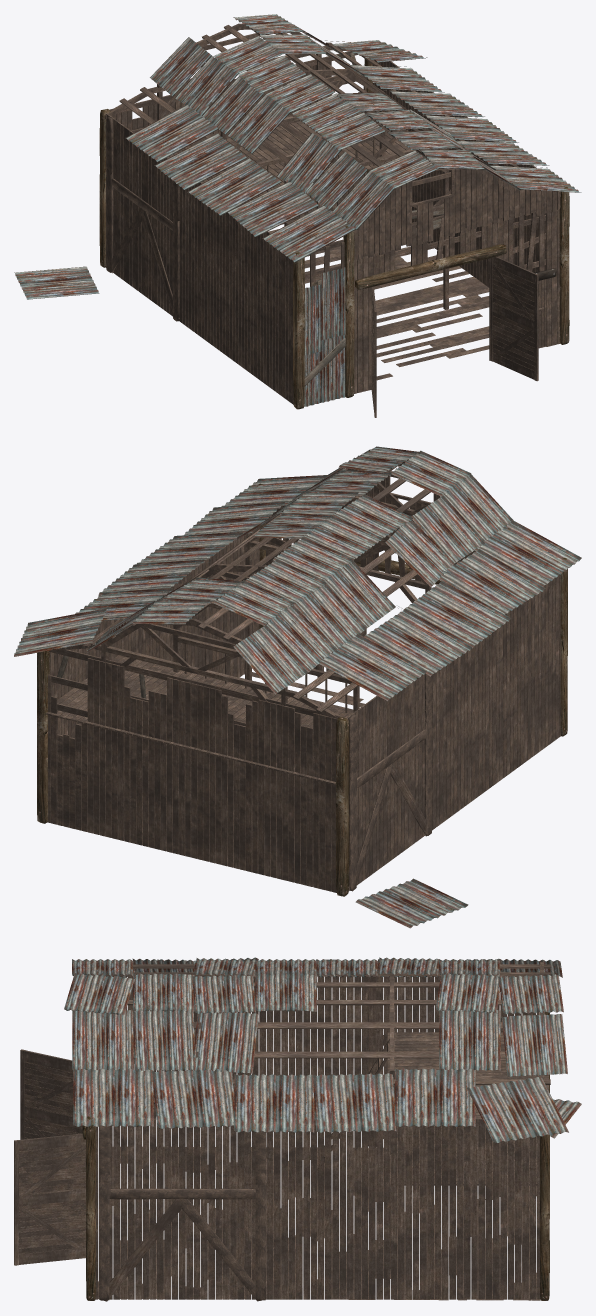
File: abandoned_barn.glb
The picture shows the model from 3 angles, top to bottom: view 1: azimuth 30°, elevation 25°; view 2: azimuth 150°, elevation 25°; view 3: azimuth 270°, elevation 25°; orthographic projection. The views are drawn at different scales.
Parts seen in each view (by area): view 1: BarnRoof_9, BarnWalls_12, BarnSupportBeams_10, BarnFloor_7, BarnPillars_8, BarnDoorR_6, BarnWallPatchedHole_11, BarnWallSideThing_13, BarnBalcMain_1, BarnBigDoorThing_3, BarnWallsSupport_14, BarnWallSupport2_15 (+2 smaller); view 2: BarnWalls_12, BarnRoof_9, BarnSupportBeams_10, BarnPillars_8, BarnWallSideThing_13, BarnBalcMain_1, BarnWallsSupport_14, BarnBalcRailing_2; view 3: BarnWalls_12, BarnRoof_9, BarnDoorR_6, BarnWallSideThing_13, BarnSupportBeams_10, BarnFloor_7, BarnDoorL_5, BarnBalcMain_1, BarnPillars_8.
Boxes of the visible parts, <box> form: BarnRoof_9: <box>14,14,581,299</box>; BarnWalls_12: <box>106,60,560,404</box>; BarnSupportBeams_10: <box>105,23,518,309</box>; BarnFloor_7: <box>269,219,545,380</box>; BarnPillars_8: <box>99,45,569,409</box>; BarnDoorR_6: <box>490,256,538,381</box>; BarnWallPatchedHole_11: <box>304,267,345,406</box>; BarnWallSideThing_13: <box>106,117,493,321</box>; BarnBalcMain_1: <box>167,111,410,196</box>; BarnBigDoorThing_3: <box>355,244,506,289</box>; BarnWallsSupport_14: <box>109,51,545,279</box>; BarnWallSupport2_15: <box>284,52,443,386</box>; BarnWalls_12: <box>47,459,560,892</box>; BarnRoof_9: <box>14,446,581,928</box>; BarnSupportBeams_10: <box>48,460,447,718</box>; BarnPillars_8: <box>37,483,567,896</box>; BarnWallSideThing_13: <box>177,527,432,891</box>; BarnBalcMain_1: <box>45,655,353,785</box>; BarnWallsSupport_14: <box>48,507,457,726</box>; BarnBalcRailing_2: <box>177,636,352,712</box>; BarnWalls_12: <box>95,969,544,1299</box>; BarnRoof_9: <box>64,957,581,1143</box>; BarnDoorR_6: <box>14,1133,85,1265</box>; BarnWallSideThing_13: <box>98,976,529,1301</box>; BarnSupportBeams_10: <box>86,961,550,1269</box>; BarnFloor_7: <box>98,1146,540,1300</box>; BarnDoorL_5: <box>20,1049,82,1139</box>; BarnBalcMain_1: <box>387,1032,548,1185</box>; BarnPillars_8: <box>86,1011,549,1300</box>.
Bounding box in the file's own units: 9.99 × 5.18 × 10.61.
Materials: 8 (8 with a texture image).
